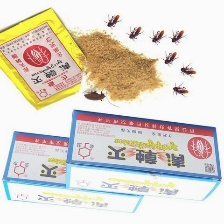book: (63, 105, 224, 205), (0, 127, 163, 216)
insecticide: (0, 4, 90, 113)
